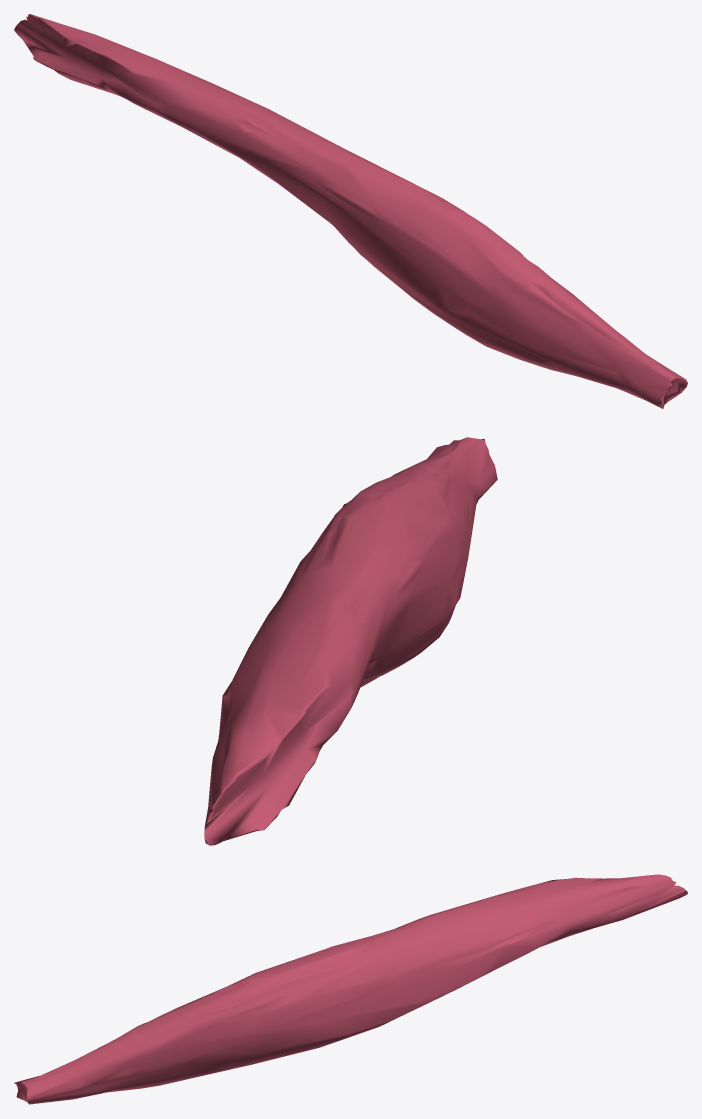
The picture shows the model from 3 angles, top to bottom: view 1: azimuth 30°, elevation 25°; view 2: azimuth 150°, elevation 25°; view 3: azimuth 270°, elevation 25°; orthographic projection. The views are drawn at different scales.
Parts seen in each view (by area): view 1: 右侧喙肱肌; view 2: 右侧喙肱肌; view 3: 右侧喙肱肌.
Part boxes in pixels (x1=…): 右侧喙肱肌: x1=14, y1=14, x2=687, y2=408; 右侧喙肱肌: x1=204, y1=437, x2=497, y2=845; 右侧喙肱肌: x1=14, y1=874, x2=687, y2=1104.
Size of the model in its own units: 0.0896 by 0.0516 by 0.2339.
